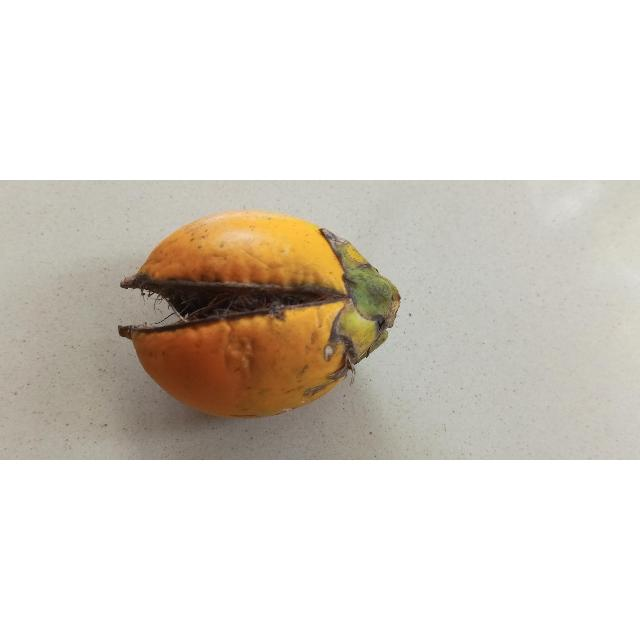damaged: (118, 210, 402, 420)
